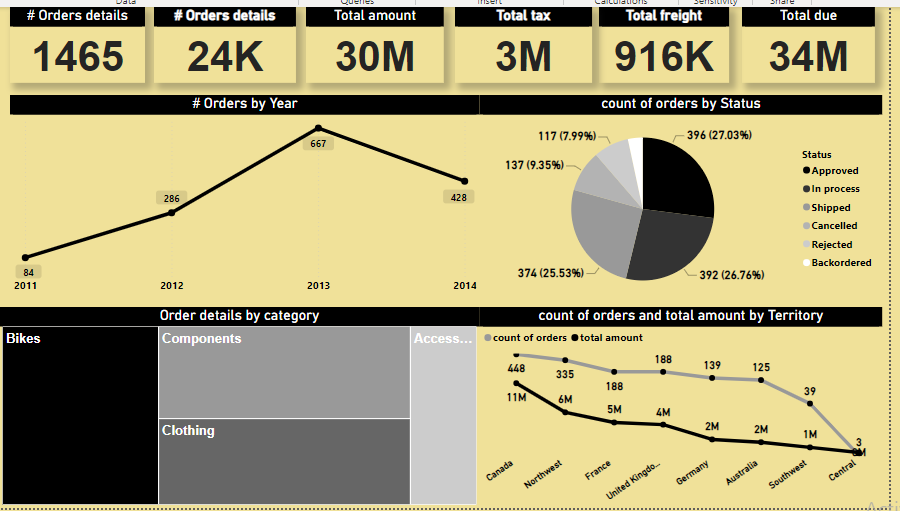

The dashboard page shown, as its layout file describes it:
{"tool":"powerbi","page":{"name":"Sales","canvas":[1280,720],"ordinal":0},"visuals":[{"type":"card","title":"# Orders details","fields":{"Values":["Sales.countoforderdeatails"]},"box":[15.8,0,194,109.2],"z":0},{"type":"card","title":"# Orders details","fields":{"Values":["Sales.countoforders"]},"box":[222.8,0,204.1,109.2],"z":1000},{"type":"card","title":"Total amount","fields":{"Values":["Sales.total amount"]},"box":[441.2,0,198.3,109.2],"z":2000},{"type":"card","title":"Total due","fields":{"Values":["Sales.total due"]},"box":[1067.8,0,191.1,109.2],"z":3000},{"type":"card","title":"Total freight","fields":{"Values":["FactSales.total freight"]},"box":[862.3,0,186.8,109.2],"z":4000},{"type":"card","title":"Total tax","fields":{"Values":["Sales.total tax"]},"box":[655.3,0,196.9,109.2],"z":5000},{"type":"lineChart","title":"# Orders by Year","fields":{"Y":["Sales.count of orders"],"Category":["Dim Due Dates.Date.Variation.Date Hierarchy.Year"]},"box":[15.8,126.5,675.4,294.6],"z":6000},{"type":"treemap","title":"Order details by category","fields":{"Values":["FactSales.count of orders"],"Group":["DimProduct.ProductCategory","DimProduct.ProductSubCategory","DimProduct.Product"]},"box":[0,431.1,691.3,288.9],"z":7000},{"type":"pieChart","fields":{"Y":["Sales.count of orders"],"Category":["Dim Status.Status"]},"box":[691.3,126.5,577.7,304.7],"z":8000},{"type":"lineChart","fields":{"Category":["DimTerritory.Territory"],"Y":["FactSales.count of orders"],"Y2":["Sales.total amount"]},"box":[691.3,431.1,577.7,288.9],"z":9000}]}

Visuals, with their boxes on the page's 1280x720 design canvas (x1, y1, x2, y2). These are canvas units, not pixel positions in the 900x511 screenshot, which may show the page scaled, cropped or inside an application window:
"# Orders details" card: [16,0,210,109]
"# Orders details" card: [223,0,427,109]
"Total amount" card: [441,0,640,109]
"Total due" card: [1068,0,1259,109]
"Total freight" card: [862,0,1049,109]
"Total tax" card: [655,0,852,109]
"# Orders by Year" lineChart: [16,126,691,421]
"Order details by category" treemap: [0,431,691,720]
pieChart - Sales.count of orders x Dim Status.Status: [691,126,1269,431]
lineChart - DimTerritory.Territory x FactSales.count of orders: [691,431,1269,720]
